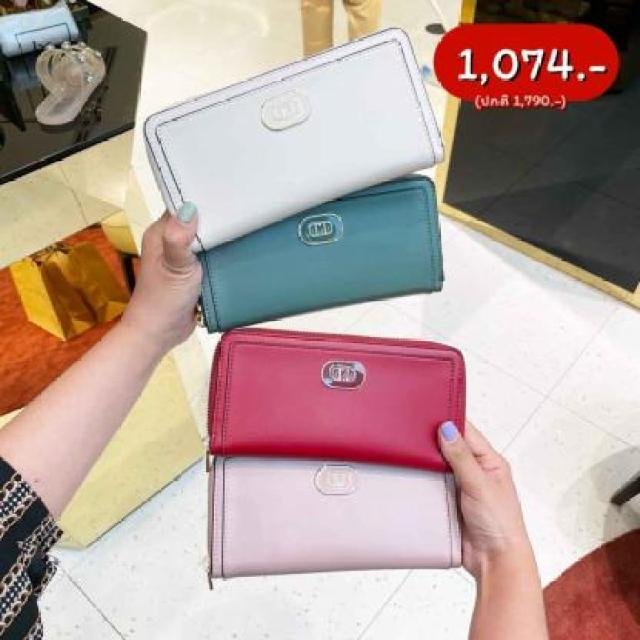Bag: (121, 14, 468, 258), (132, 161, 492, 333), (178, 429, 493, 594), (183, 311, 495, 475)
